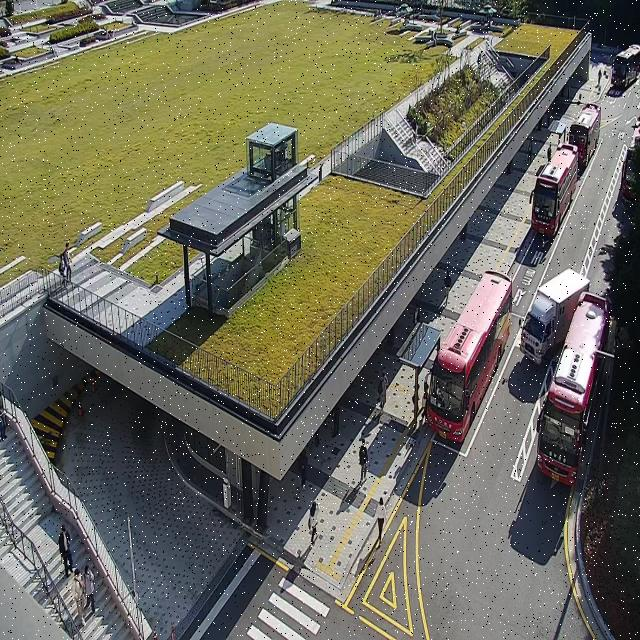queue: (414, 332, 441, 429)
